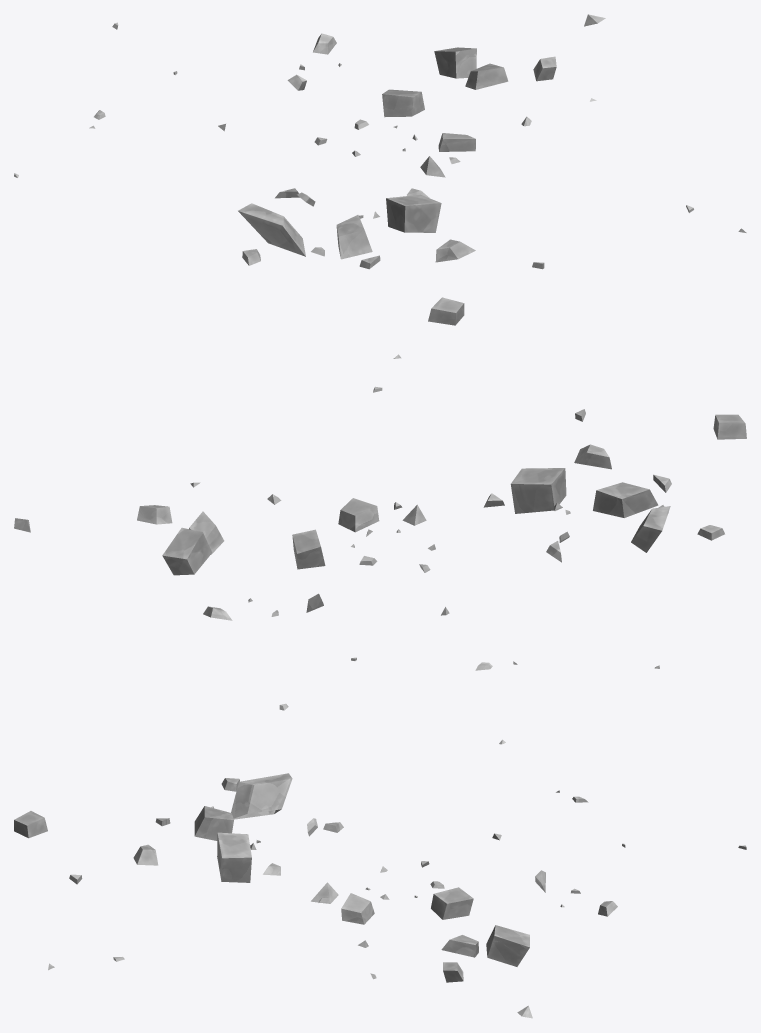
The model's file is sculpted_gravel_03.glb.
The picture shows the model from 3 angles, top to bottom: view 1: azimuth 30°, elevation 25°; view 2: azimuth 150°, elevation 25°; view 3: azimuth 270°, elevation 25°; orthographic projection. The views are drawn at different scales.
Visible parts, largest first — view 1: sculpted_gravel_03; view 2: sculpted_gravel_03; view 3: sculpted_gravel_03.
Part boxes in pixels (left/top/right/bottom): sculpted_gravel_03: left=14, top=14, right=746, bottom=325; sculpted_gravel_03: left=14, top=354, right=746, bottom=710; sculpted_gravel_03: left=14, top=739, right=746, bottom=1018.
Size of the model in its own units: 3.14 by 0.2001 by 3.5.
1 material, 1 textured.
